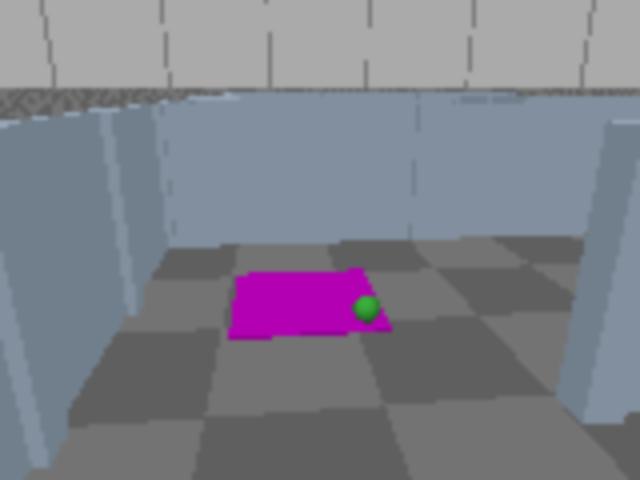goal_zone: (228, 269, 393, 340)
puck: (351, 290, 383, 329)
